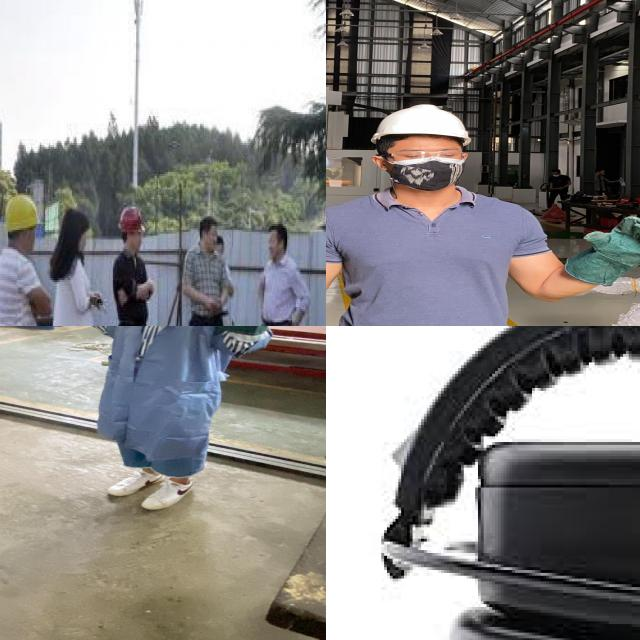Ear-protection: (458, 425, 640, 640)
face_mask: (379, 145, 472, 189)
glasses: (370, 150, 468, 166)
hand_glove: (574, 211, 640, 269)
hand_noglove: (202, 292, 224, 315)
head_helmet: (363, 99, 479, 145), (0, 192, 47, 237), (116, 205, 147, 236)
head_nohelmet: (60, 204, 90, 233), (265, 216, 287, 239), (198, 214, 220, 231)
person: (326, 96, 640, 326), (36, 326, 319, 514), (245, 212, 313, 326), (174, 204, 234, 326), (109, 194, 160, 326), (49, 199, 102, 326), (0, 192, 46, 326)
shoes: (133, 471, 200, 512), (94, 462, 169, 497)
